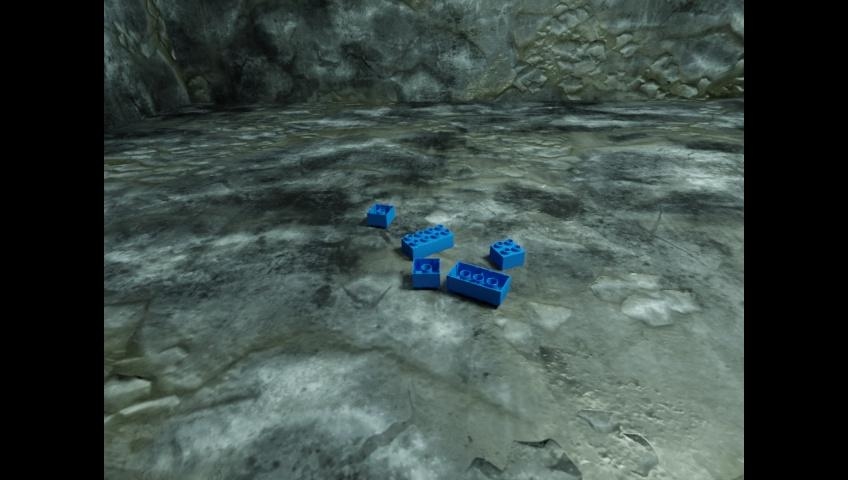2x2_blue: (490, 239, 525, 270), (412, 257, 439, 288), (366, 203, 394, 227)
4x2_blue: (446, 260, 512, 306), (401, 224, 453, 260)
